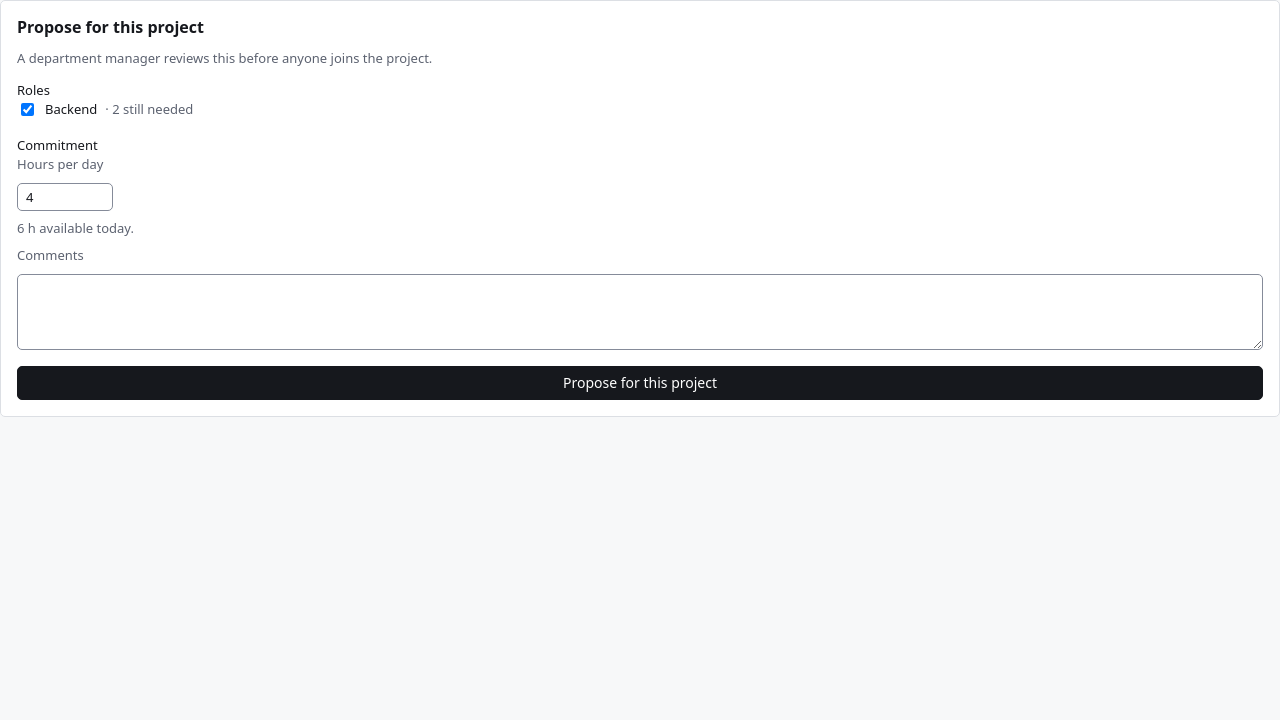
Scenario: outcomes › keeps the form and the reason when capacity changed underneath
Click the button "Propose for this project" at x=640, y=383, box [17, 366, 1263, 400]
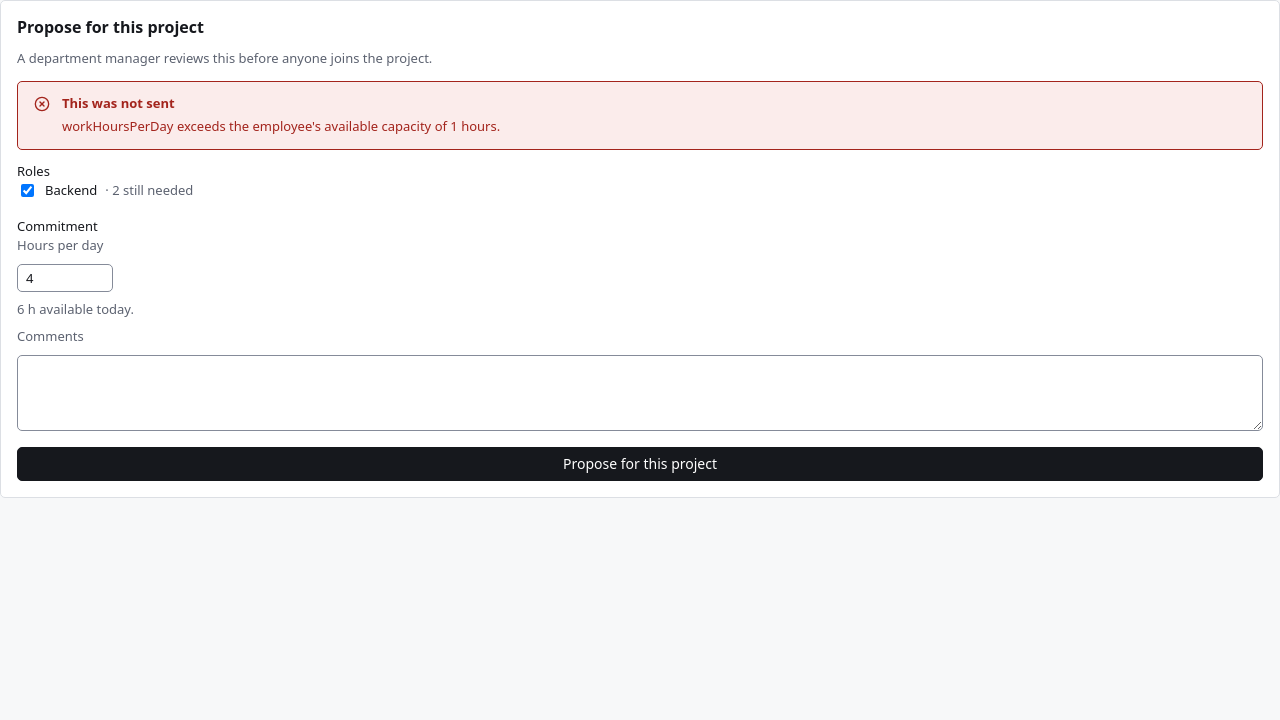
Check: the button "Propose for this project" is shown, box [17, 447, 1263, 481]
Check: the text "available capacity" is shown, box [62, 117, 500, 135]
